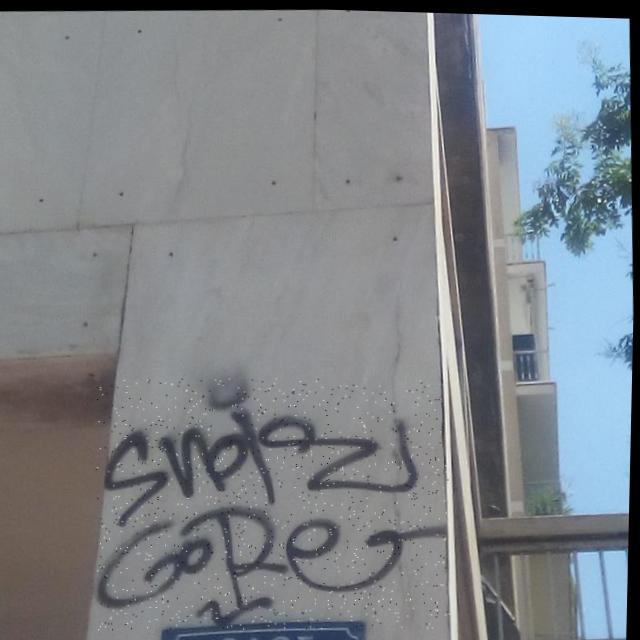-: (91, 366, 458, 637)
